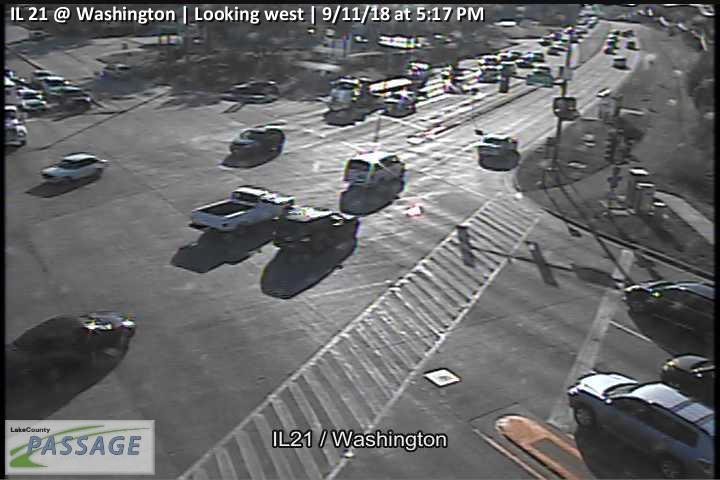SUV: (568, 371, 716, 480), (620, 278, 715, 343), (273, 205, 360, 254), (343, 150, 406, 188), (59, 86, 91, 109), (41, 76, 70, 97)
Sedan: (5, 309, 135, 385), (40, 152, 109, 185), (229, 125, 285, 153), (477, 133, 518, 159)
Truck: (188, 186, 296, 239), (327, 74, 416, 108)
